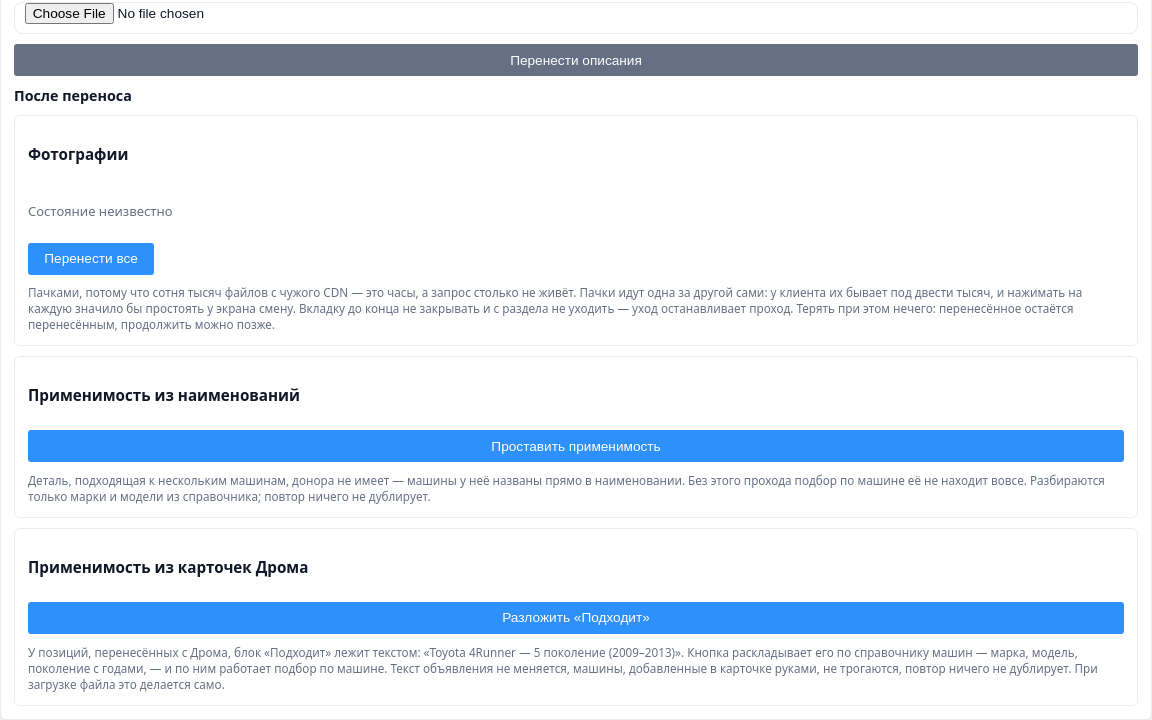
Test: применимость из карточек Дрома › повтор без изменений говорит «ничего нового», а не три нуля
(page scrolled)
Click the button "Разложить «Подходит»": (576,618) x1=28 y1=602 x2=1124 y2=634
(page scrolled)
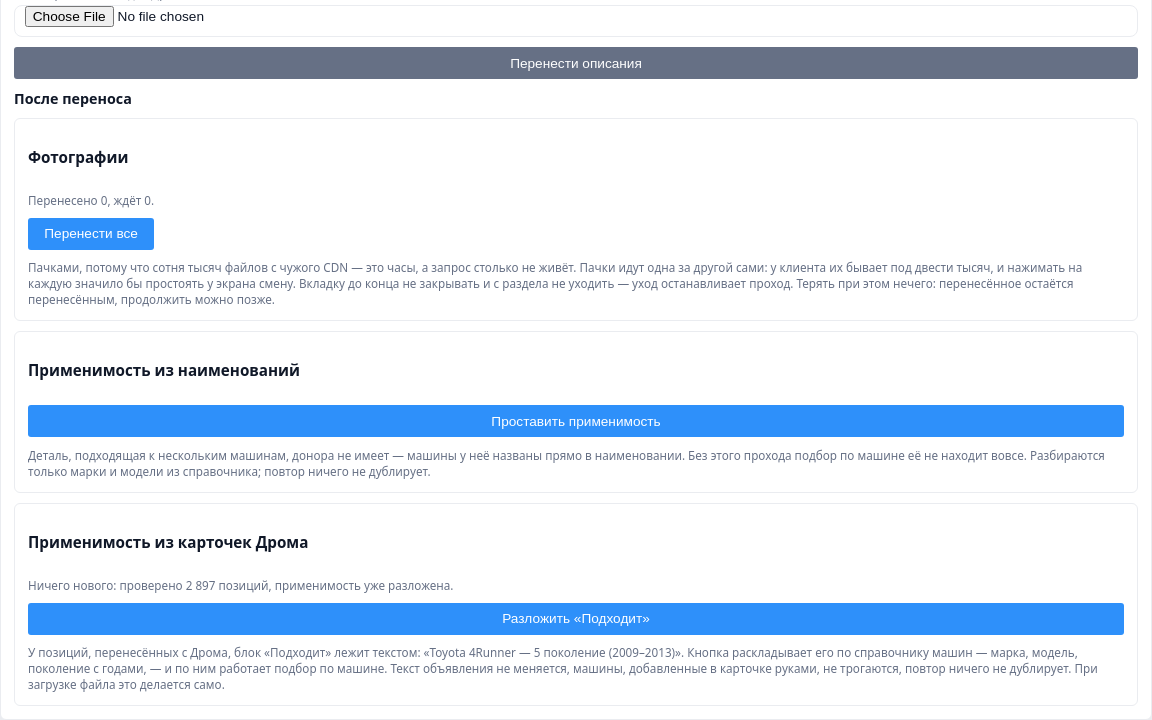
Now the text "Ничего нового: проверено 2 897 позиций, применимость уже разложена." is shown, box x1=28 y1=577 x2=453 y2=593
